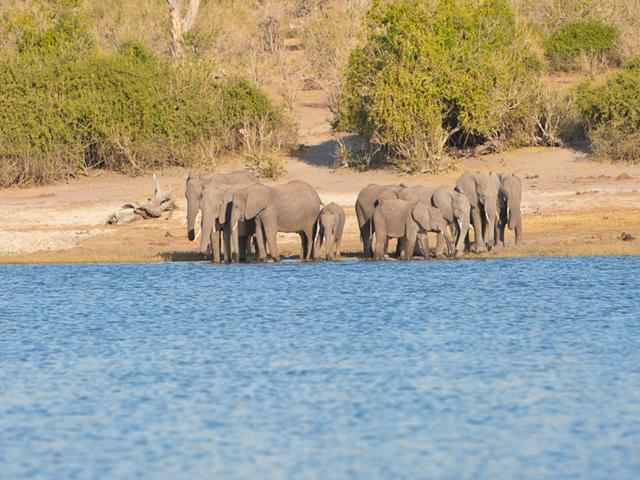elephant: (153, 160, 328, 286)
